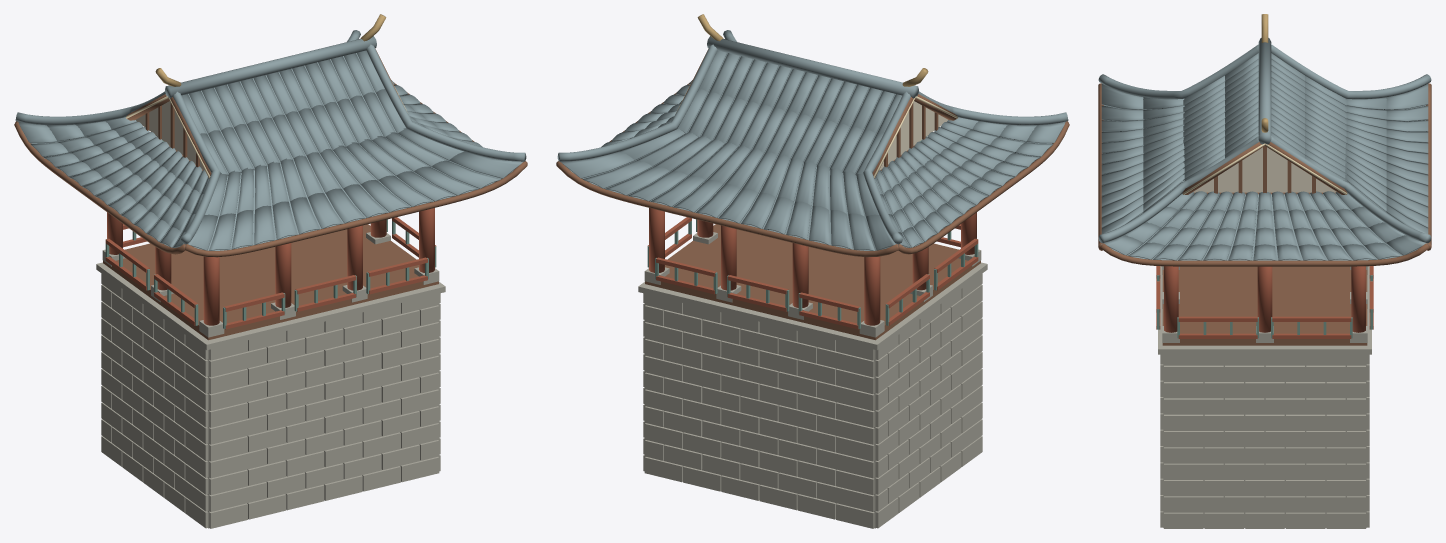
File: Watch_LOD1.fbx
The picture shows the model from 3 angles, left to right: view 1: azimuth 30°, elevation 25°; view 2: azimuth 150°, elevation 25°; view 3: azimuth 270°, elevation 25°; orthographic projection. The views are drawn at different scales.
Visible parts, largest first — view 1: Watch_Detail1_Stone, Watch_Detail1_Roof, Watch_Detail1_Timber, Watch_Detail1_Vermilion, Watch_Detail1_Jade, Watch_Detail1_Plaster; view 2: Watch_Detail1_Stone, Watch_Detail1_Roof, Watch_Detail1_Timber, Watch_Detail1_Vermilion, Watch_Detail1_Jade, Watch_Detail1_Plaster; view 3: Watch_Detail1_Roof, Watch_Detail1_Stone, Watch_Detail1_Timber, Watch_Detail1_Vermilion, Watch_Detail1_Plaster, Watch_Detail1_Jade, Watch_Detail1_PaintIvory.
Part boxes in pixels (bbox=[...]): Watch_Detail1_Stone: bbox=[96, 232, 445, 528]; Watch_Detail1_Roof: bbox=[15, 30, 526, 250]; Watch_Detail1_Timber: bbox=[14, 48, 527, 340]; Watch_Detail1_Vermilion: bbox=[105, 208, 436, 329]; Watch_Detail1_Jade: bbox=[105, 135, 436, 328]; Watch_Detail1_Plaster: bbox=[136, 101, 204, 170]; Watch_Detail1_Stone: bbox=[638, 232, 987, 528]; Watch_Detail1_Roof: bbox=[557, 30, 1068, 250]; Watch_Detail1_Timber: bbox=[556, 48, 1069, 340]; Watch_Detail1_Vermilion: bbox=[647, 208, 978, 329]; Watch_Detail1_Jade: bbox=[647, 135, 978, 328]; Watch_Detail1_Plaster: bbox=[879, 101, 947, 170]; Watch_Detail1_Roof: bbox=[1098, 38, 1431, 260]; Watch_Detail1_Stone: bbox=[1158, 266, 1371, 528]; Watch_Detail1_Timber: bbox=[1098, 83, 1431, 345]; Watch_Detail1_Vermilion: bbox=[1156, 266, 1373, 338]; Watch_Detail1_Plaster: bbox=[1193, 147, 1336, 192]; Watch_Detail1_Jade: bbox=[1157, 275, 1372, 338]; Watch_Detail1_PaintIvory: bbox=[1182, 143, 1347, 194].
Size of the model in its own units: 14.44 by 16.82 by 12.44.
